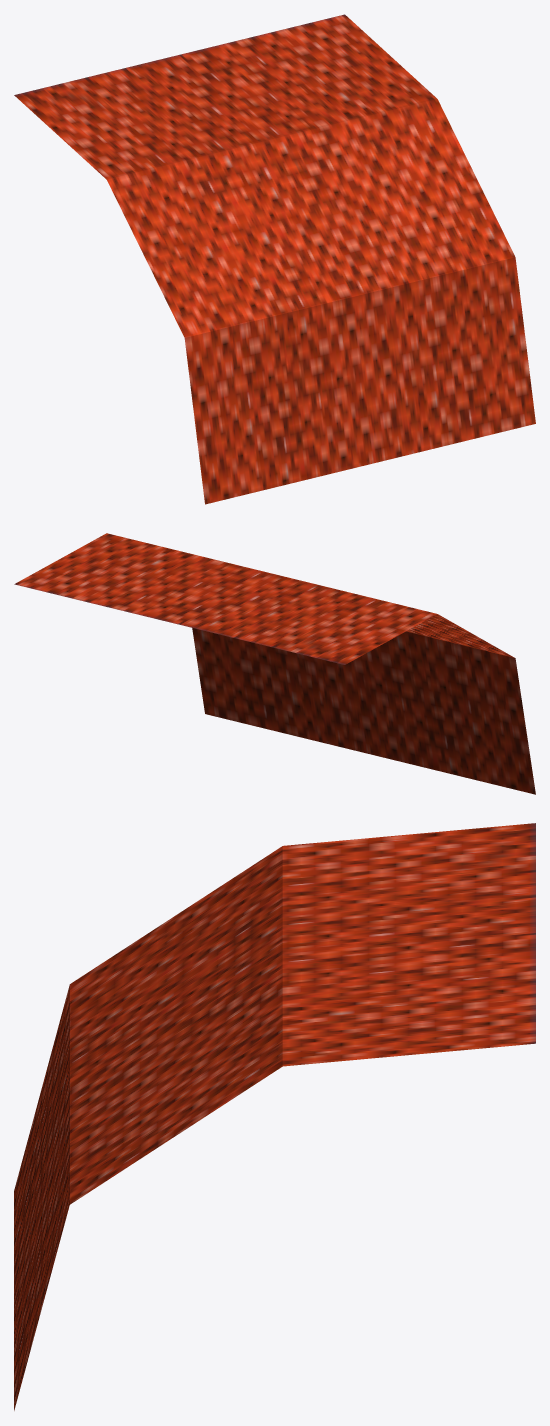
Rendered from Dach_Halbtonne [Ziegel]_2210.glb.
The picture shows the model from 3 angles, top to bottom: view 1: azimuth 30°, elevation 25°; view 2: azimuth 150°, elevation 25°; view 3: azimuth 270°, elevation 25°; orthographic projection. The views are drawn at different scales.
Parts seen in each view (by area): view 1: polySurfaceShape1072; view 2: polySurfaceShape1072; view 3: polySurfaceShape1072.
Boxes of the visible parts, <box> form: polySurfaceShape1072: <box>14,14,535,504</box>; polySurfaceShape1072: <box>14,533,535,794</box>; polySurfaceShape1072: <box>14,823,535,1410</box>.
Bounding box in the file's own units: 0.5 × 0.3891 × 0.5.
1 material, 1 textured.
